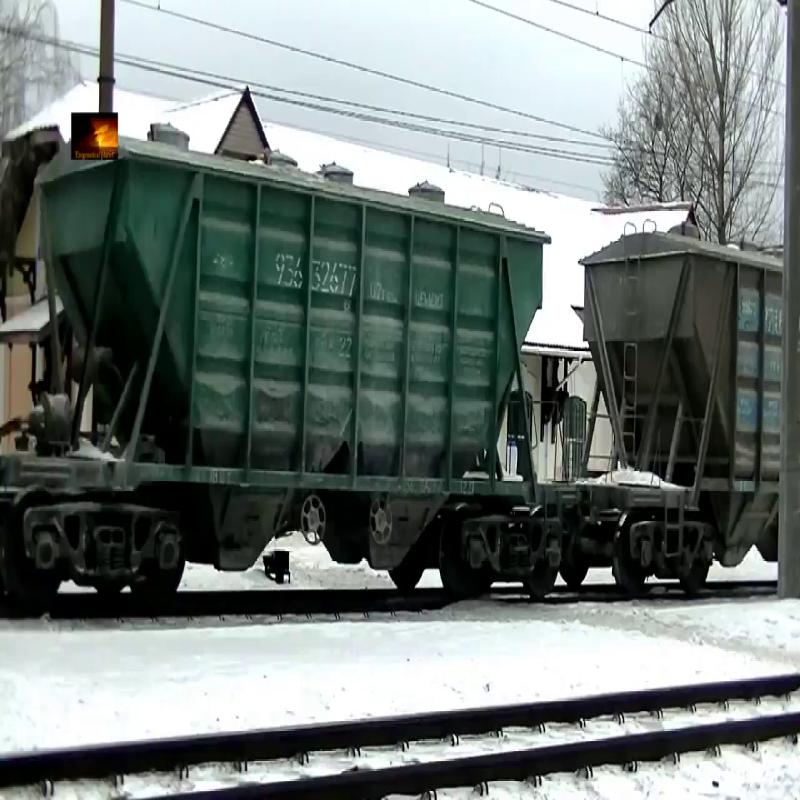train: (18, 152, 550, 598), (570, 230, 783, 609)
